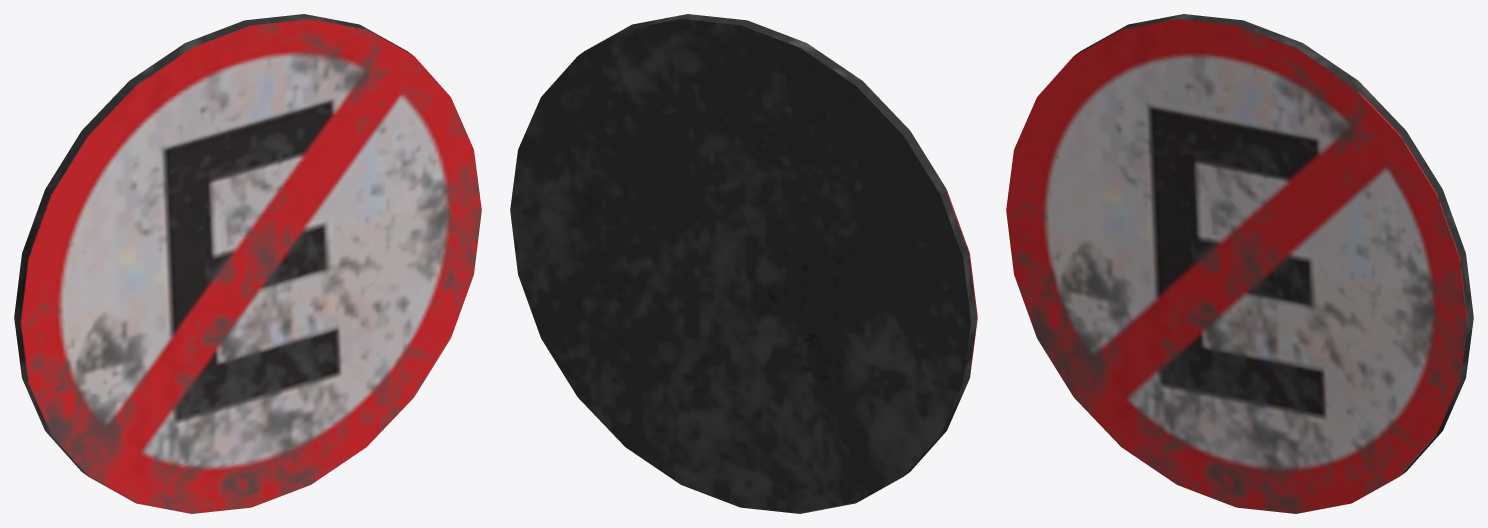
The model's file is Signs no Parking.fbx.
3 renders of one model, left to right at view 1: azimuth 30°, elevation 25°; view 2: azimuth 150°, elevation 25°; view 3: azimuth 330°, elevation 25°, orthographic.
Visible parts, largest first — view 1: Cylinder.001; view 2: Cylinder.001; view 3: Cylinder.001.
Part boxes in pixels (x1,y1,x2,y2): Cylinder.001: [14, 14, 481, 513]; Cylinder.001: [510, 14, 977, 513]; Cylinder.001: [1006, 14, 1473, 513].
Size of the model in its own units: 51.89 by 51.89 by 1.31.
